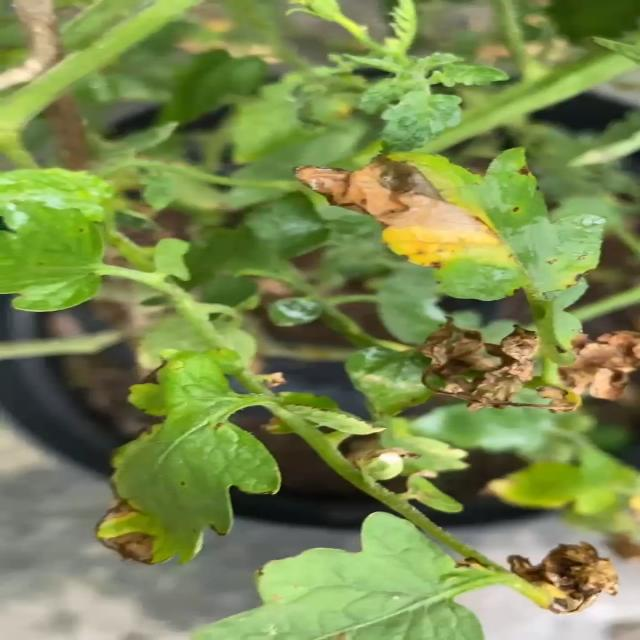Tomato_Late_Blight: (305, 148, 599, 305), (98, 439, 183, 598)
